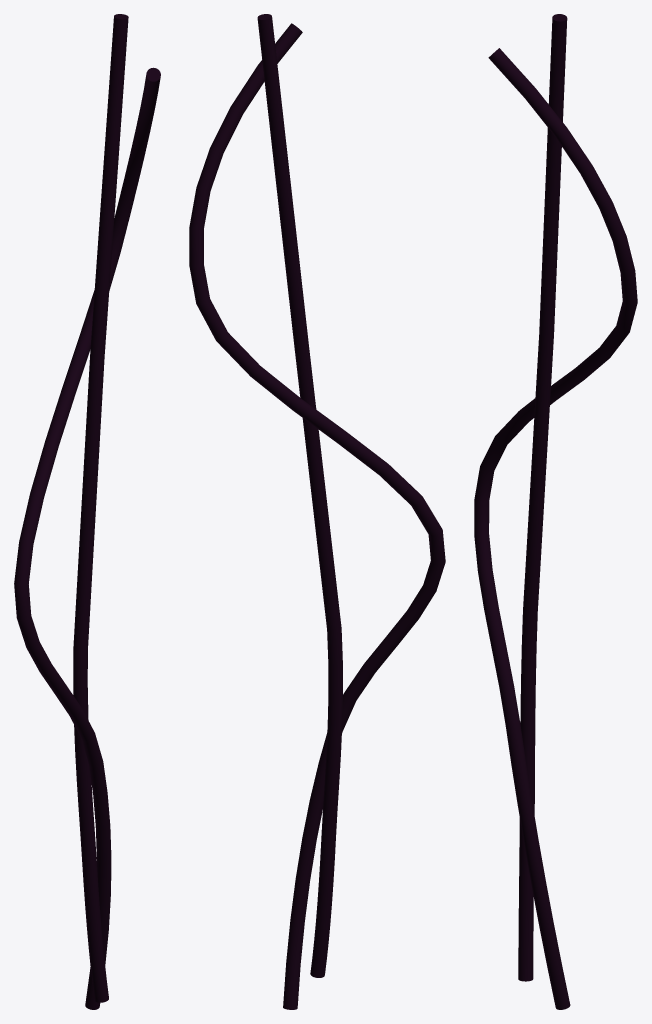
Rendered from VRMachineWires.fbx.
3 views of the same model, side by side, from view 1: azimuth 30°, elevation 25°; view 2: azimuth 150°, elevation 25°; view 3: azimuth 270°, elevation 25° (orthographic).
Parts seen in each view (by area): view 1: Line003; view 2: Line003; view 3: Line003.
Part boxes in pixels (<box>): Line003: <box>14,14,160,1009</box>; Line003: <box>189,14,445,1009</box>; Line003: <box>474,14,637,1009</box>.
Bounding box in the file's own units: 9.85 × 49.65 × 7.33.
